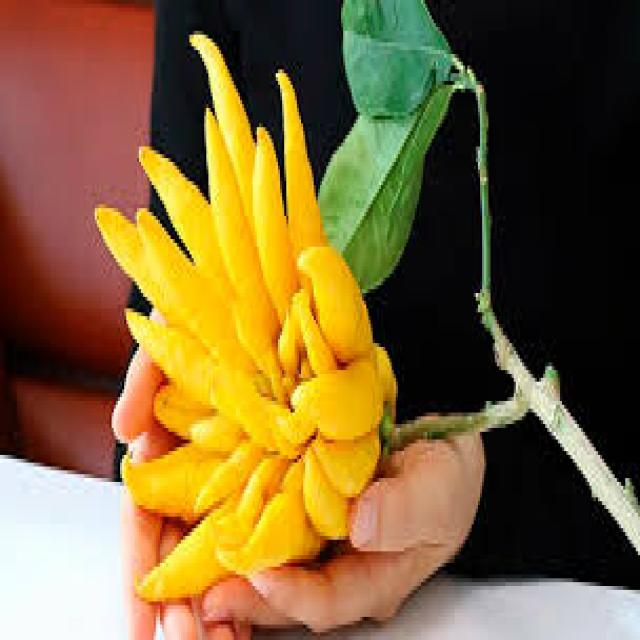PhatThu: (81, 24, 397, 603)
